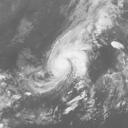cyclone: (45, 39, 89, 81)
